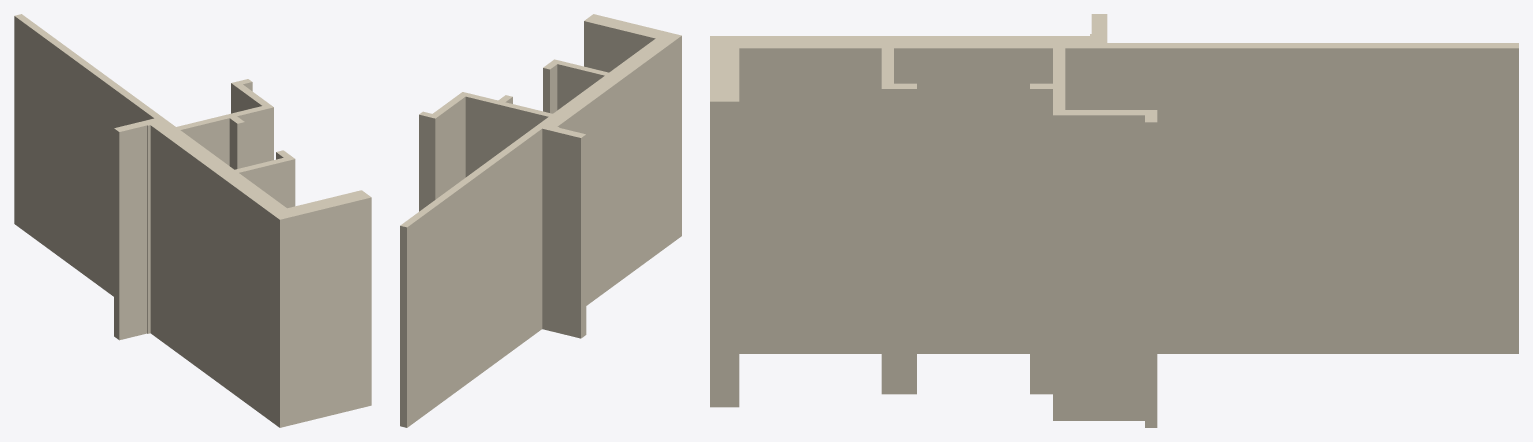
3 views of the same model, side by side, from view 1: azimuth 30°, elevation 25°; view 2: azimuth 150°, elevation 25°; view 3: azimuth 270°, elevation 25° (orthographic). The views are drawn at different scales.
Parts seen in each view (by area): view 1: A-FF-WALL-021; view 2: A-FF-WALL-021; view 3: A-FF-WALL-021.
Part boxes in pixels (x1,y1,x2,y2): A-FF-WALL-021: (14,14,371,427); A-FF-WALL-021: (400,14,681,427); A-FF-WALL-021: (710,14,1518,427).
Bounding box in the file's own units: 1.84 × 2.42 × 5.8.
